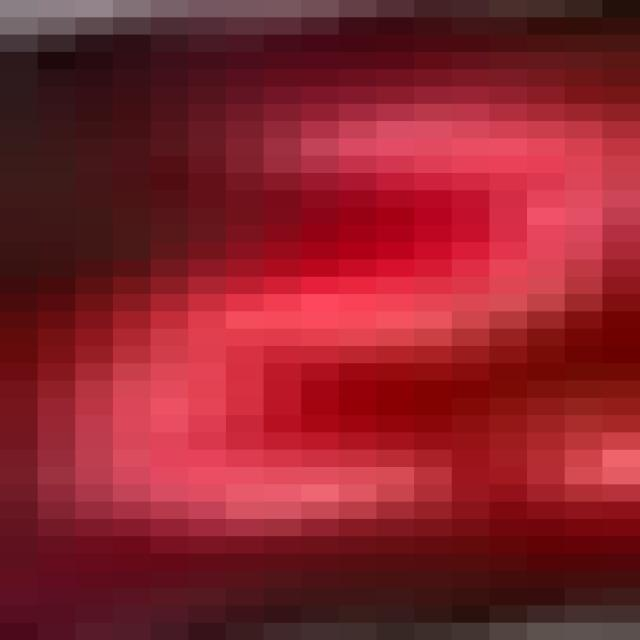.: (519, 418, 640, 505)
2: (12, 89, 640, 525)
